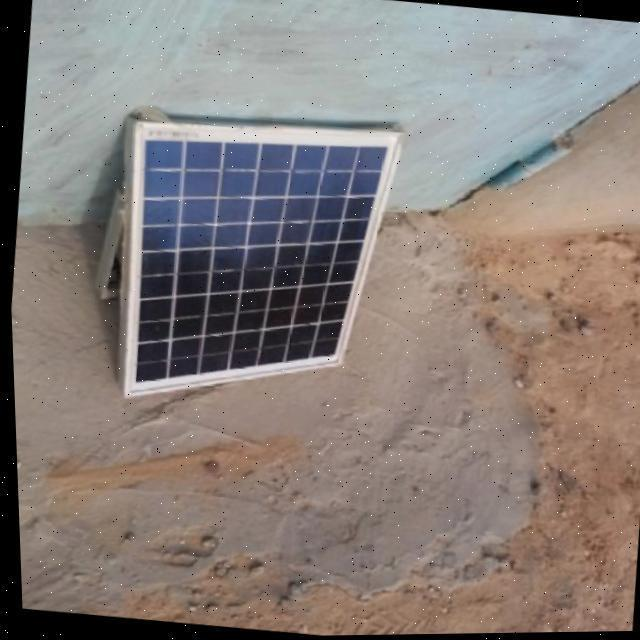Normal Solar Panel: (107, 108, 410, 422)
